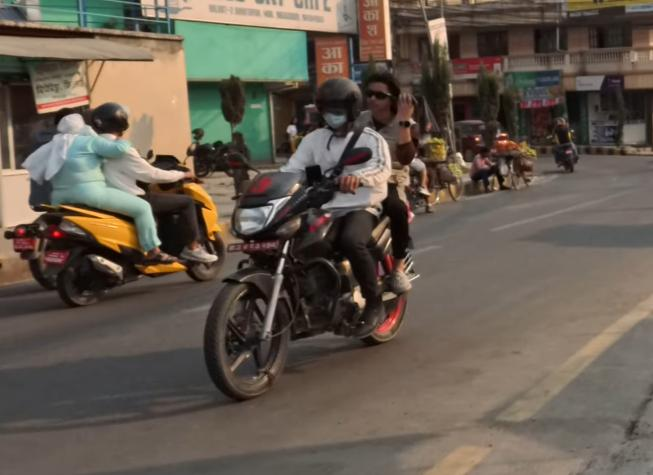bike: (196, 139, 423, 401)
